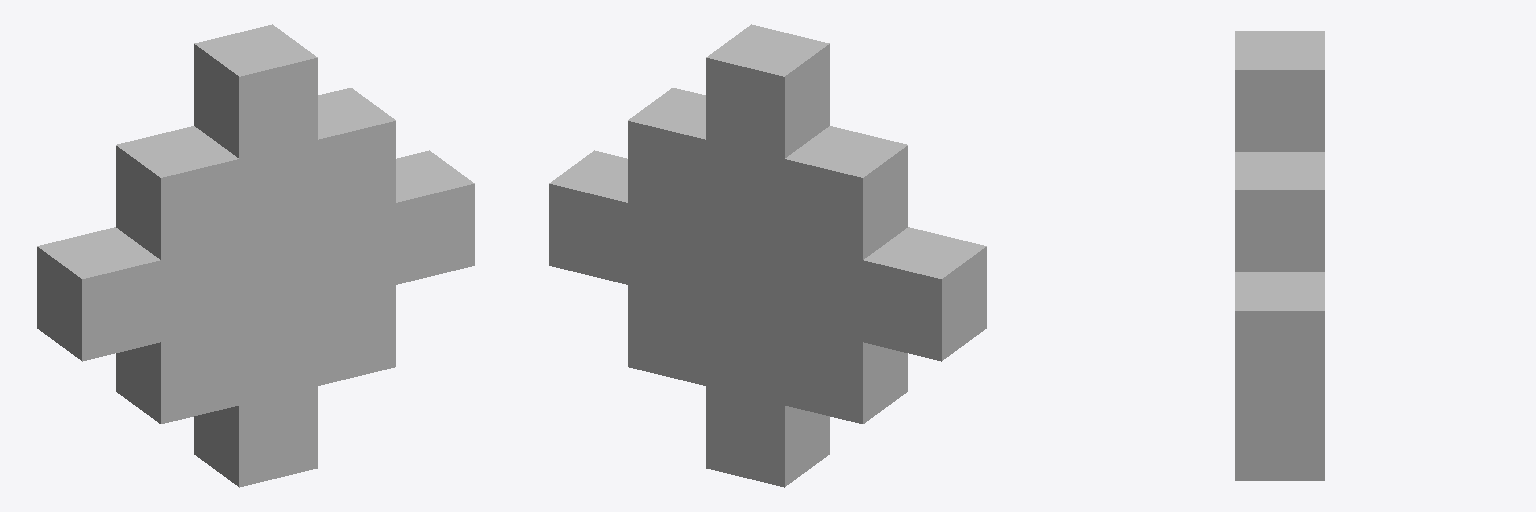
File: light1.obj
3 views of the same model, side by side, from view 1: azimuth 30°, elevation 25°; view 2: azimuth 150°, elevation 25°; view 3: azimuth 270°, elevation 25° (orthographic).
Parts seen in each view (by area): view 1: object 1; view 2: object 1; view 3: object 1.
Part boxes in pixels (left/top/right/bottom): object 1: left=37, top=24, right=474, bottom=487; object 1: left=549, top=24, right=986, bottom=487; object 1: left=1235, top=31, right=1324, bottom=480.
Bounding box in the file's own units: 0.5 × 0.5 × 0.1.